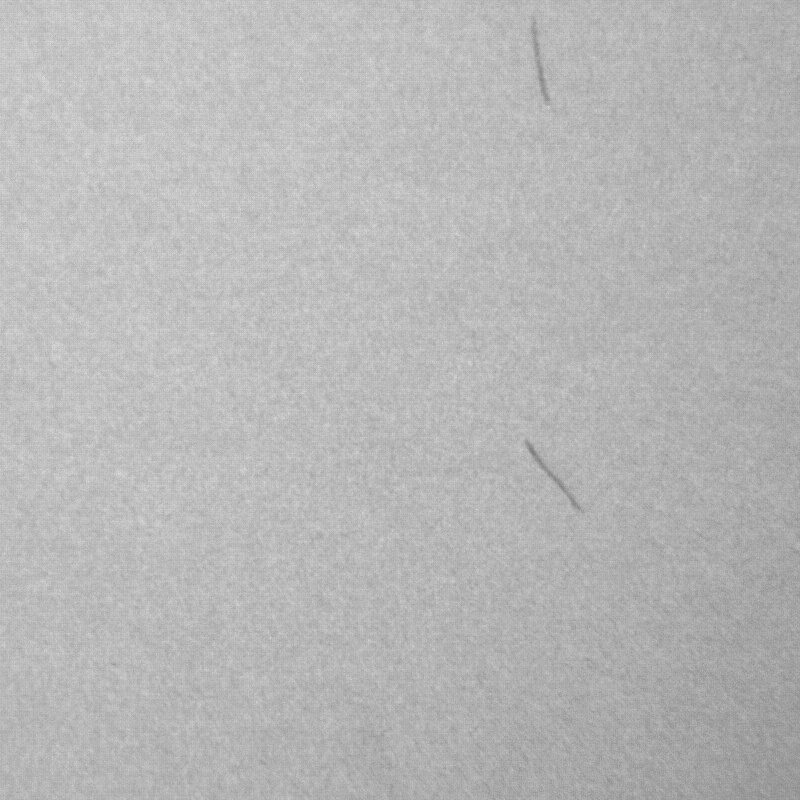defect: (526, 442, 590, 513), (535, 19, 554, 107)
